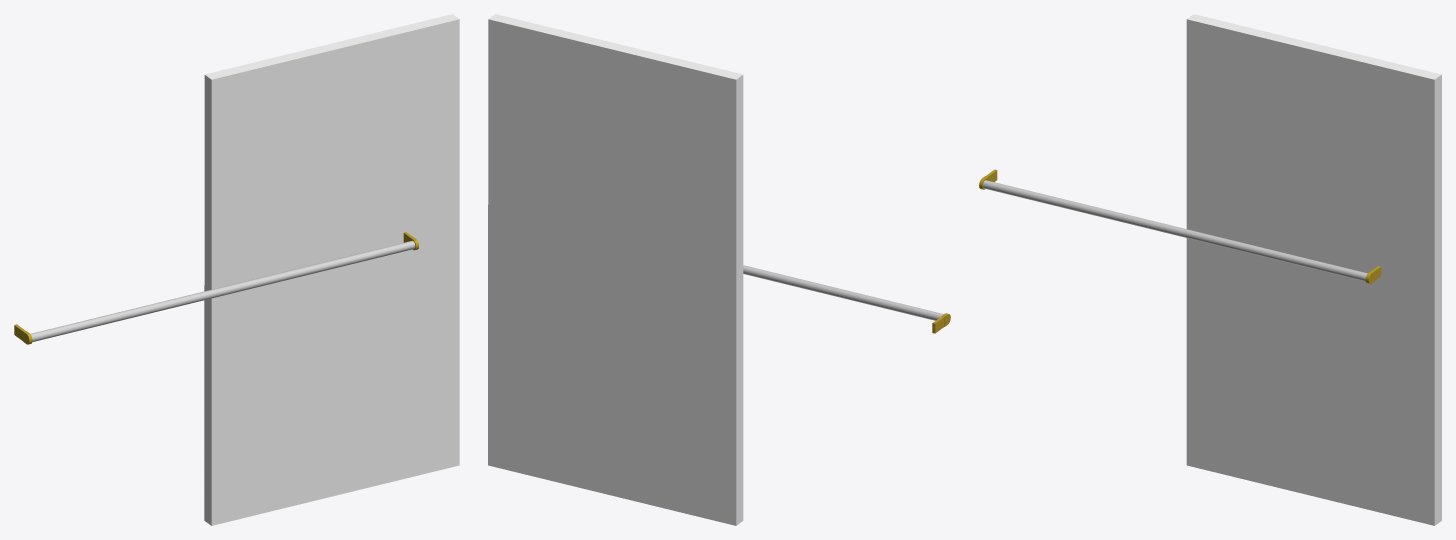
Rendered from Cabinet_a9306d96.obj.
The picture shows the model from 3 angles, left to right: view 1: azimuth 30°, elevation 25°; view 2: azimuth 150°, elevation 25°; view 3: azimuth 330°, elevation 25°; orthographic projection.
Visible parts, largest first — view 1: FP408:Door2_6278ef90, handle_2_600mm_01_fe6163e9; view 2: FP408:Door2_6278ef90, handle_2_600mm_01_fe6163e9; view 3: FP408:Door2_6278ef90, handle_2_600mm_01_fe6163e9.
Boxes of the visible parts, box(x1,y1,x2,y2) form: FP408:Door2_6278ef90: box(204, 14, 459, 525); handle_2_600mm_01_fe6163e9: box(14, 232, 418, 344); FP408:Door2_6278ef90: box(488, 14, 743, 525); handle_2_600mm_01_fe6163e9: box(743, 265, 950, 333); FP408:Door2_6278ef90: box(1186, 14, 1441, 525); handle_2_600mm_01_fe6163e9: box(979, 169, 1381, 283).
Bounding box in the file's own units: 0.682 × 0.6566 × 0.0531.
